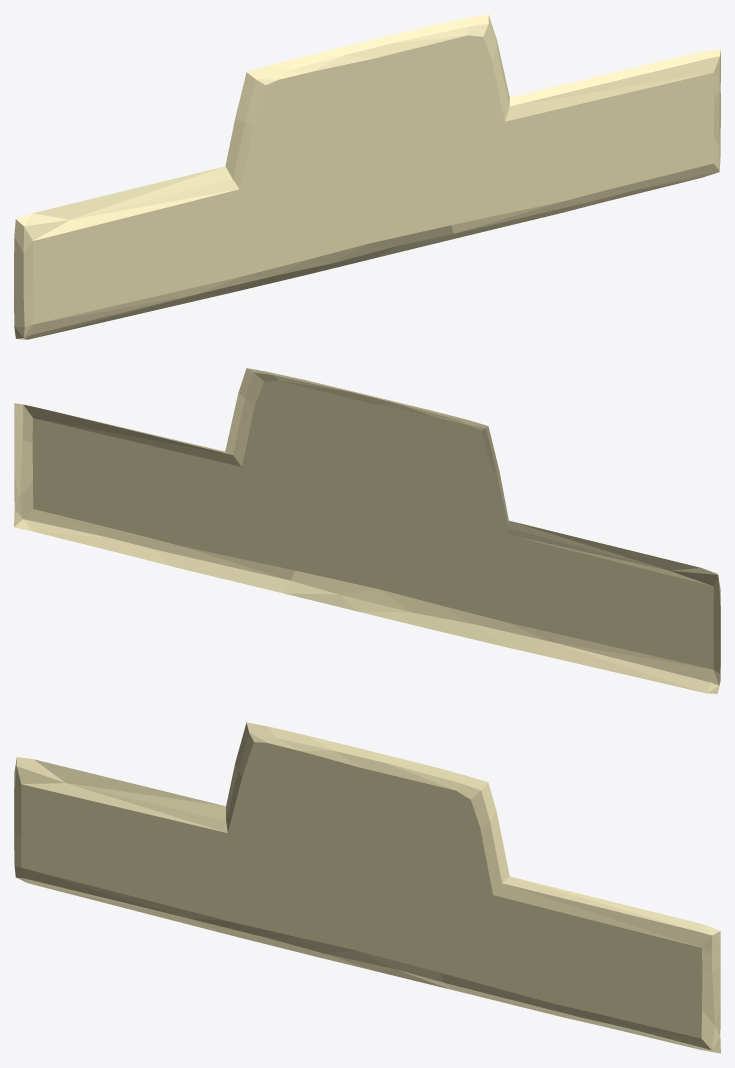
File: ui_favorBarPlinthBackground.glb
The picture shows the model from 3 angles, top to bottom: view 1: azimuth 30°, elevation 25°; view 2: azimuth 150°, elevation 25°; view 3: azimuth 330°, elevation 25°; orthographic projection.
Visible parts, largest first — view 1: Cube; view 2: Cube; view 3: Cube.
Part boxes in pixels (x1=…): Cube: x1=14, y1=14, x2=720, y2=339; Cube: x1=14, y1=368, x2=720, y2=693; Cube: x1=14, y1=722, x2=720, y2=1053.
Bounding box in the file's own units: 1.98 × 0.5868 × 0.0343.
